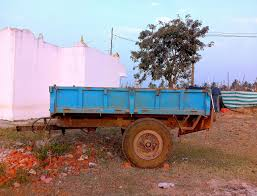wheel: (121, 120, 172, 168)
